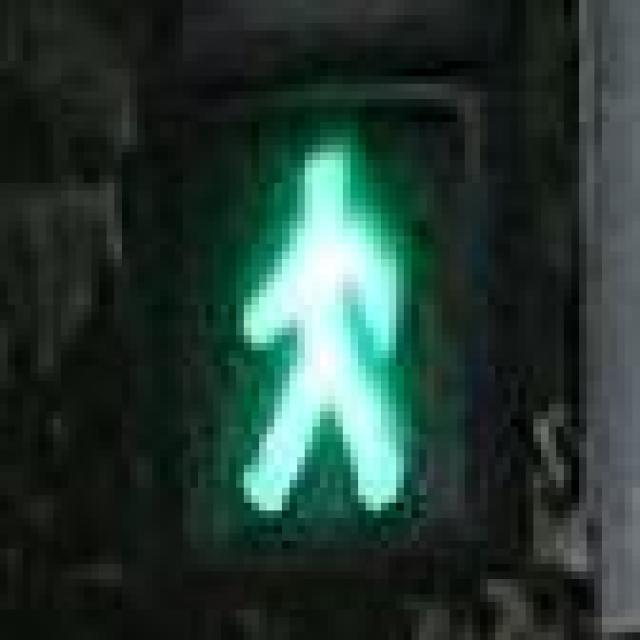geen-crossing: (168, 99, 464, 526)
